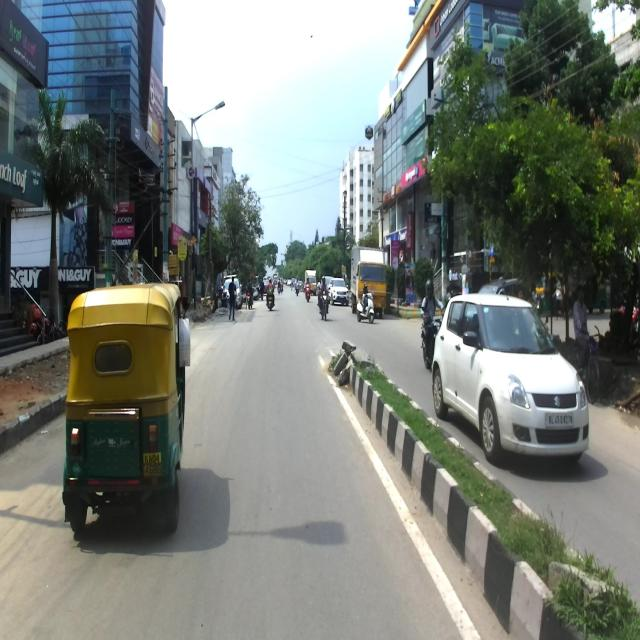autorickshaw: (62, 284, 190, 534)
car: (430, 293, 589, 466), (328, 278, 348, 306)
motorcycle: (420, 306, 441, 368), (317, 280, 329, 320)
scooter: (355, 292, 374, 324), (305, 280, 311, 302)
